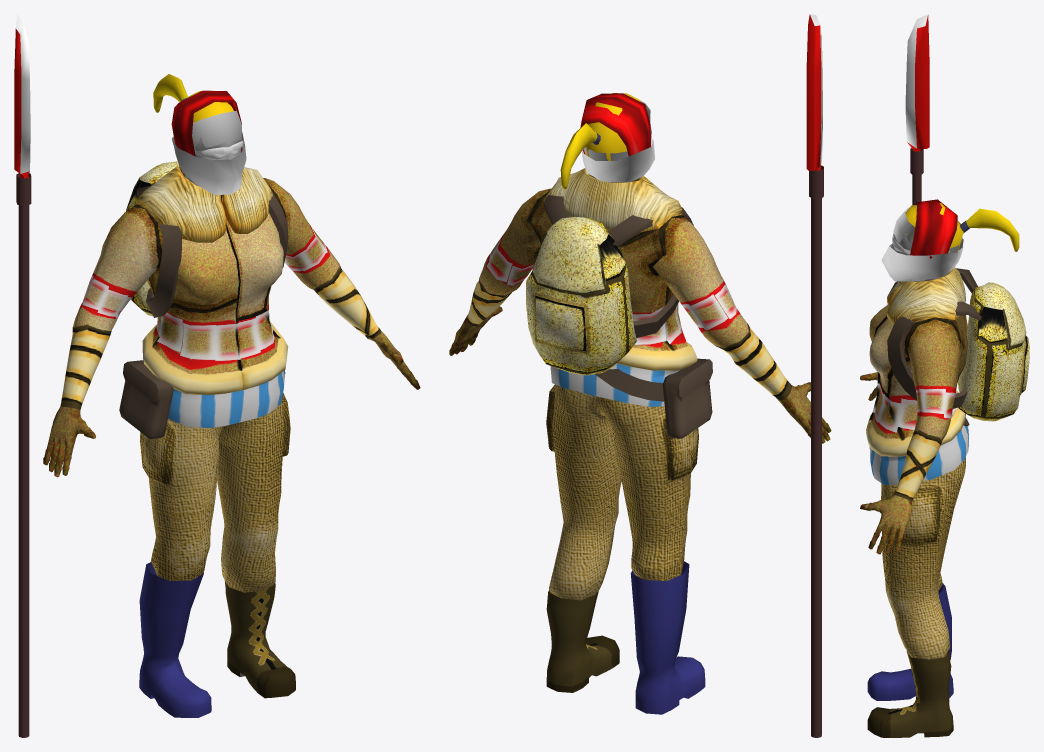
File: Female_Raider_II.obj
3 views of the same model, side by side, from view 1: azimuth 30°, elevation 25°; view 2: azimuth 150°, elevation 25°; view 3: azimuth 270°, elevation 25° (orthographic). The views are drawn at different scales.
Parts seen in each view (by area): view 1: Trunk, Legs, High_Rubber_Boot, Shaft, Jacket_Collar, Low_Boot, Bag, Cloth_Backpack_Straps, Blade, grid2, grid, grid1 (+3 smaller); view 2: Legs, Trunk, Back_Pack, High_Rubber_Boot, Shaft, Low_Boot, Jacket_Collar, Bag, grid, Blade, Cloth_Backpack_Straps, grid2 (+3 smaller); view 3: Trunk, Legs, Back_Pack, Low_Boot, Jacket_Collar, Blade, Cloth_Backpack_Straps, grid, grid2, High_Rubber_Boot, Ponytail, Basic_Face (+2 smaller).
Boxes of the visible parts, <box> form: Trunk: <box>43,169,420,477</box>; Legs: <box>140,393,290,592</box>; High_Rubber_Boot: <box>139,562,211,717</box>; Shaft: <box>16,173,31,737</box>; Jacket_Collar: <box>136,164,273,242</box>; Low_Boot: <box>224,580,295,698</box>; Bag: <box>119,360,173,439</box>; Cloth_Backpack_Straps: <box>136,185,288,317</box>; Blade: <box>14,14,30,178</box>; grid2: <box>172,132,246,194</box>; grid: <box>171,90,242,156</box>; grid1: <box>192,110,241,149</box>; Legs: <box>546,384,698,600</box>; Trunk: <box>449,174,831,443</box>; Back_Pack: <box>526,216,636,375</box>; High_Rubber_Boot: <box>630,561,705,714</box>; Shaft: <box>809,165,823,737</box>; Low_Boot: <box>546,590,619,692</box>; Jacket_Collar: <box>543,168,682,231</box>; Bag: <box>662,358,712,438</box>; grid: <box>580,93,650,155</box>; Blade: <box>806,14,822,170</box>; Cloth_Backpack_Straps: <box>544,195,693,337</box>; grid2: <box>582,137,654,182</box>; Trunk: <box>860,271,968,554</box>; Legs: <box>881,457,965,659</box>; Back_Pack: <box>957,282,1029,421</box>; Low_Boot: <box>867,650,953,737</box>; Jacket_Collar: <box>887,267,965,324</box>; Blade: <box>905,14,929,151</box>; Cloth_Backpack_Straps: <box>887,268,981,408</box>; grid: <box>910,199,957,258</box>; grid2: <box>881,243,963,281</box>; High_Rubber_Boot: <box>867,583,953,700</box>; Ponytail: <box>960,208,1019,251</box>; Basic_Face: <box>891,203,963,281</box>.
Size of the model in its own units: 11.82 by 21.3 by 5.3.
